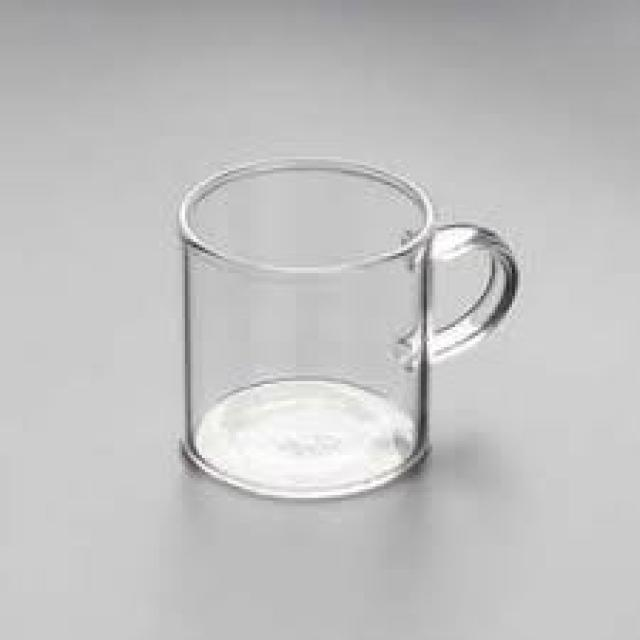Glass: (162, 138, 524, 514)
